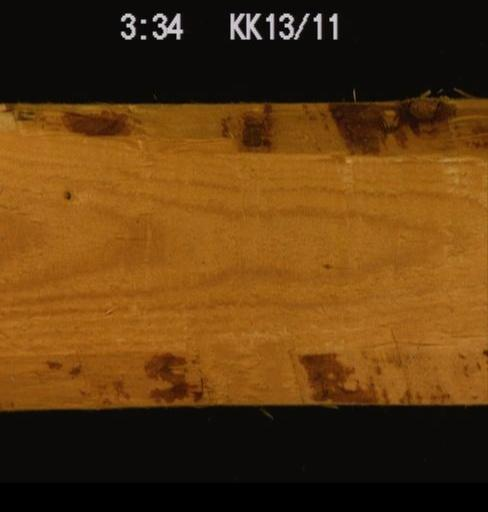small_knot: (62, 186, 71, 201)
wave: (0, 336, 486, 406), (0, 100, 486, 161)
